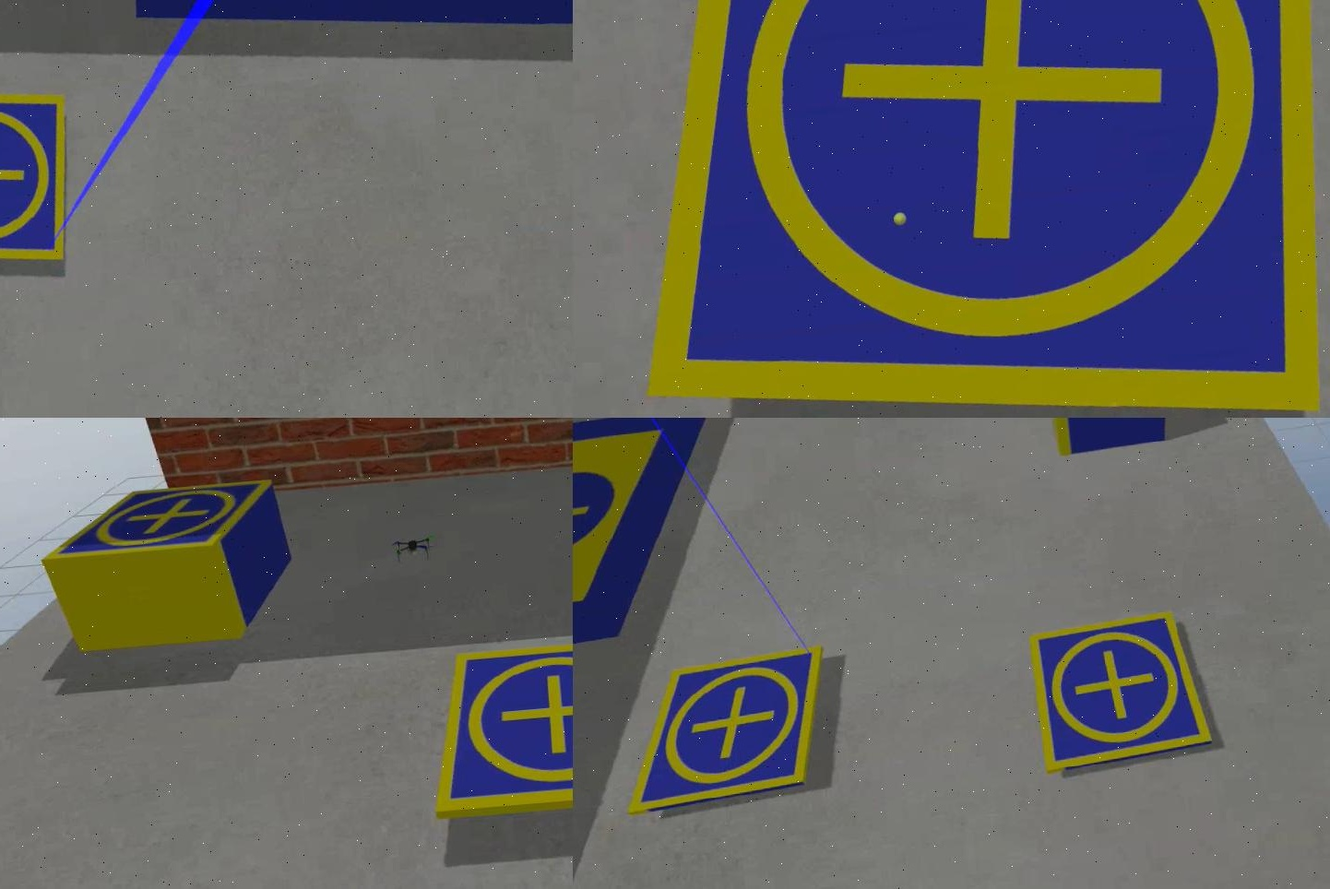large_base: (572, 419, 730, 660)
small_base: (592, 1, 1328, 419), (612, 641, 834, 820), (1028, 610, 1214, 772), (417, 634, 572, 824), (30, 477, 282, 575), (0, 74, 83, 282)
